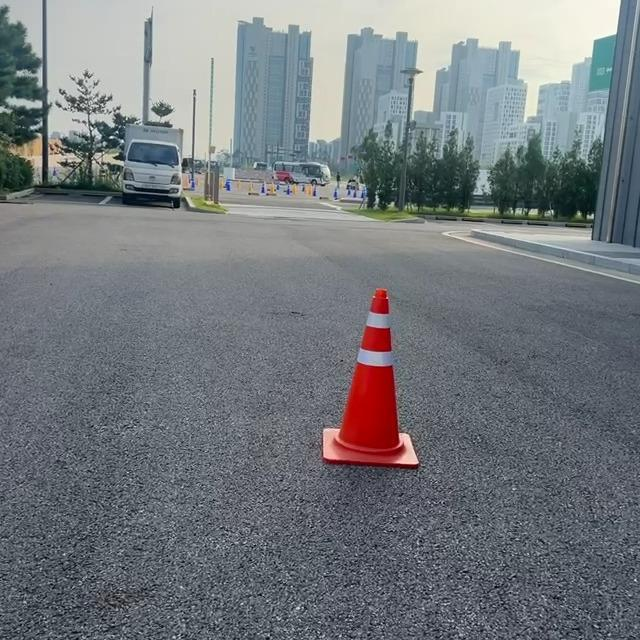fallen_object: (292, 246, 453, 478)
